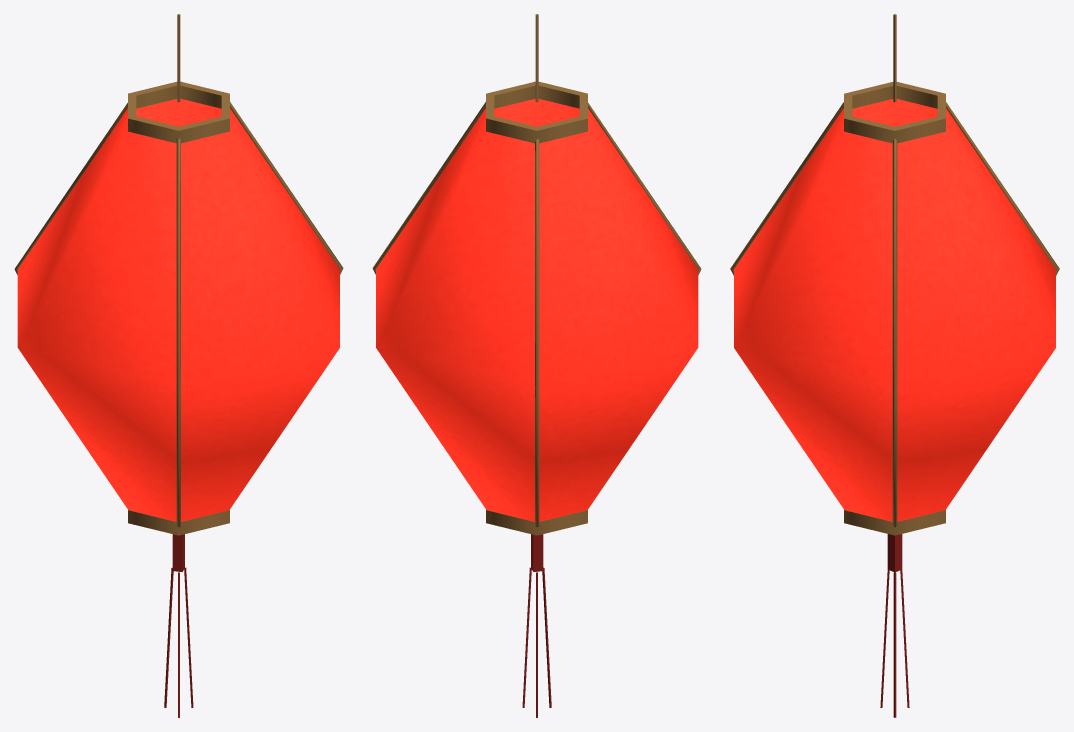
File: den_long_03_lod1.glb
3 renders of one model, left to right at view 1: azimuth 30°, elevation 25°; view 2: azimuth 150°, elevation 25°; view 3: azimuth 270°, elevation 25°, orthographic.
Parts seen in each view (by area): view 1: bamboo_rib_0; view 2: bamboo_rib_0; view 3: bamboo_rib_0.
Part boxes in pixels (box(x1,y1,x2,y2)): bamboo_rib_0: box(14, 14, 343, 717); bamboo_rib_0: box(372, 14, 701, 717); bamboo_rib_0: box(730, 14, 1059, 717).
Bounding box in the file's own units: 0.3133 × 0.6401 × 0.2747.
Materials: 2 (1 with a texture image).
